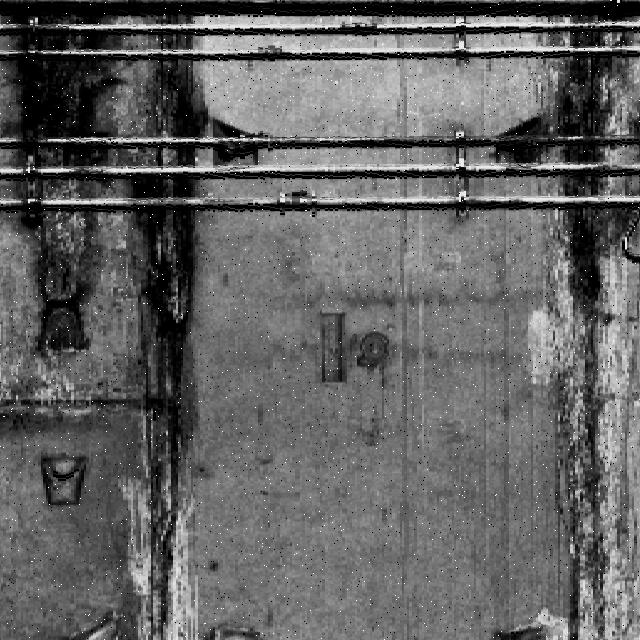leakage: (527, 8, 640, 640), (119, 7, 218, 640), (1, 1, 101, 371)
